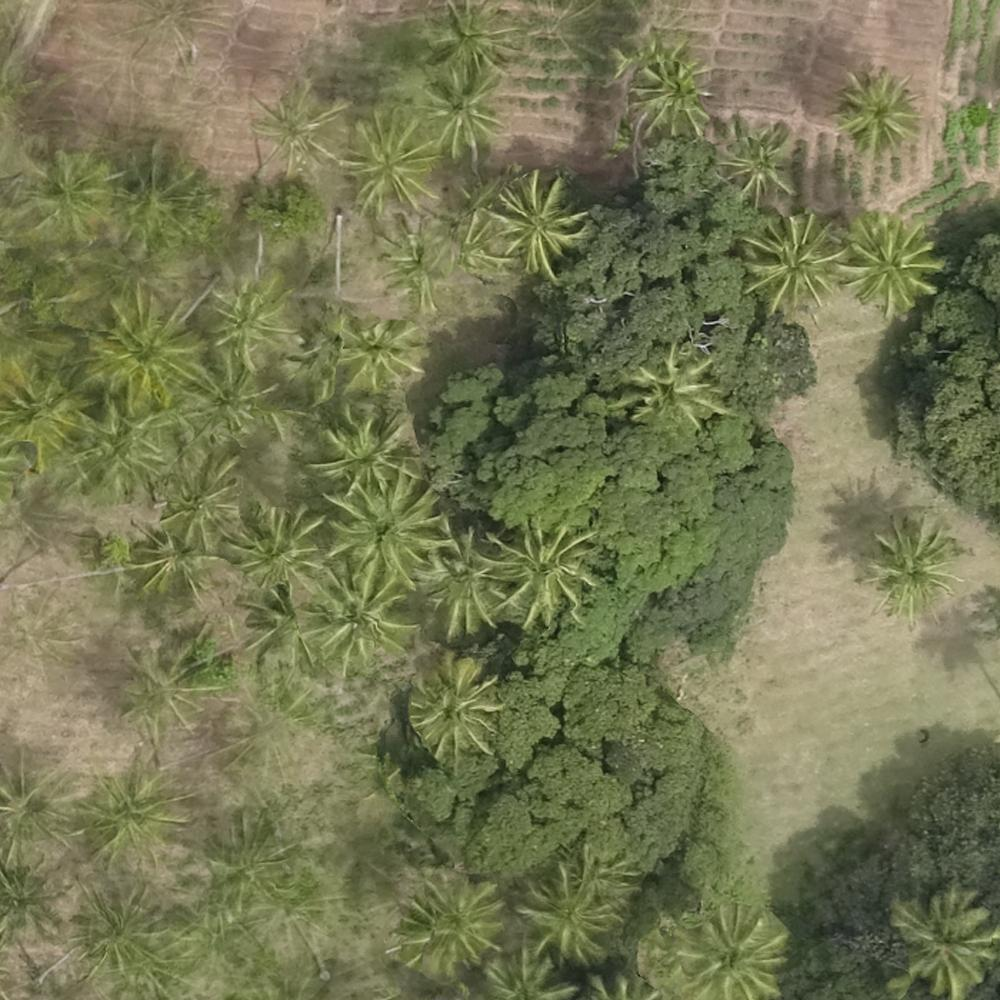Palm: (325, 476, 441, 581), (300, 554, 412, 661), (485, 522, 591, 622), (888, 891, 992, 992), (870, 517, 964, 621), (670, 910, 778, 1000), (342, 109, 437, 210), (95, 300, 190, 401), (488, 174, 580, 274), (842, 215, 938, 309), (742, 217, 836, 310), (405, 662, 496, 758), (83, 772, 178, 863), (417, 527, 500, 631), (520, 872, 611, 965), (201, 276, 292, 368), (317, 404, 419, 486), (151, 448, 241, 538), (632, 348, 728, 430), (409, 873, 498, 961), (226, 502, 320, 585), (325, 310, 419, 392), (249, 90, 337, 176), (422, 1, 512, 80), (418, 71, 500, 155), (629, 48, 712, 129), (835, 71, 916, 147), (720, 118, 797, 196)
